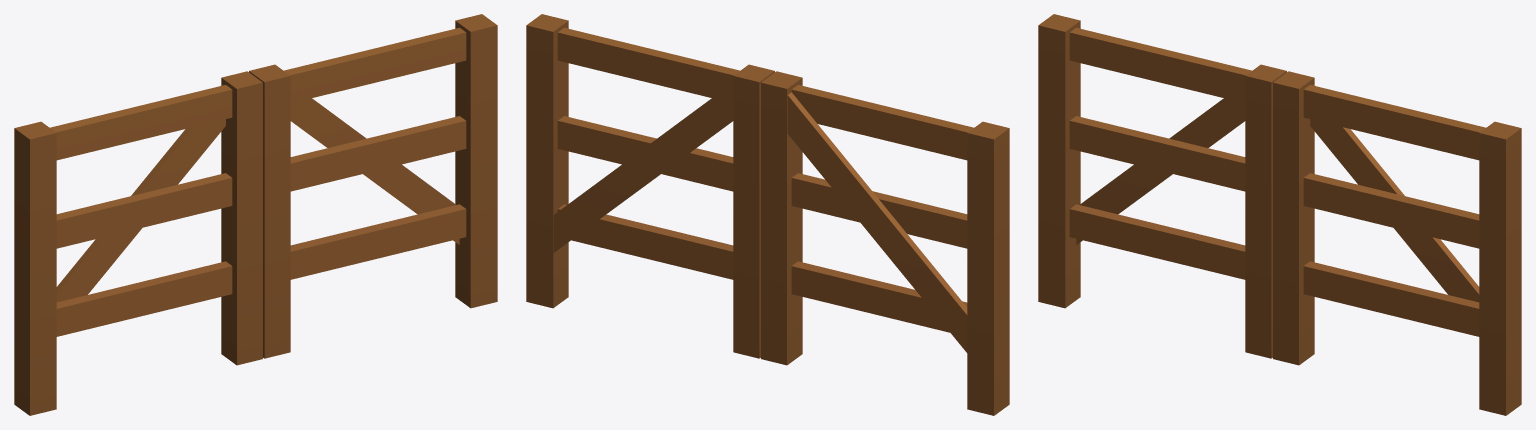
File: Bld_02_Fence_Wood_Gate_Double_Handle_01.obj
The picture shows the model from 3 angles, left to right: view 1: azimuth 30°, elevation 25°; view 2: azimuth 150°, elevation 25°; view 3: azimuth 330°, elevation 25°; orthographic projection.
Visible parts, largest first — view 1: Bld_02_Fence_Wood_Gate_Double_Left_01, Bld_02_Fence_Wood_Gate_Double_Right_01; view 2: Bld_02_Fence_Wood_Gate_Double_Left_01, Bld_02_Fence_Wood_Gate_Double_Right_01; view 3: Bld_02_Fence_Wood_Gate_Double_Right_01, Bld_02_Fence_Wood_Gate_Double_Left_01.
Part boxes in pixels (bbox=[...]): Bld_02_Fence_Wood_Gate_Double_Left_01: bbox=[14, 71, 262, 415]; Bld_02_Fence_Wood_Gate_Double_Right_01: bbox=[249, 14, 497, 358]; Bld_02_Fence_Wood_Gate_Double_Left_01: bbox=[761, 71, 1009, 415]; Bld_02_Fence_Wood_Gate_Double_Right_01: bbox=[526, 14, 774, 358]; Bld_02_Fence_Wood_Gate_Double_Right_01: bbox=[1273, 71, 1521, 415]; Bld_02_Fence_Wood_Gate_Double_Left_01: bbox=[1038, 14, 1286, 358].
Bounding box in the file's own units: 2.44 × 1.38 × 0.1404.
Materials: 1 (1 with a texture image).
